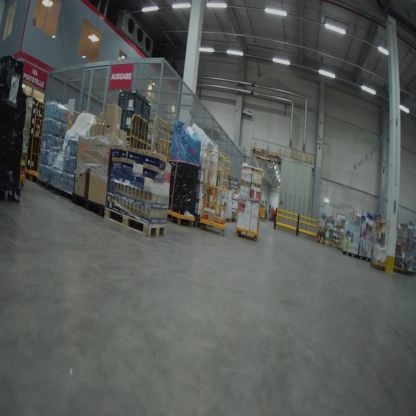pallets: (104, 206, 166, 237), (25, 98, 45, 178)
